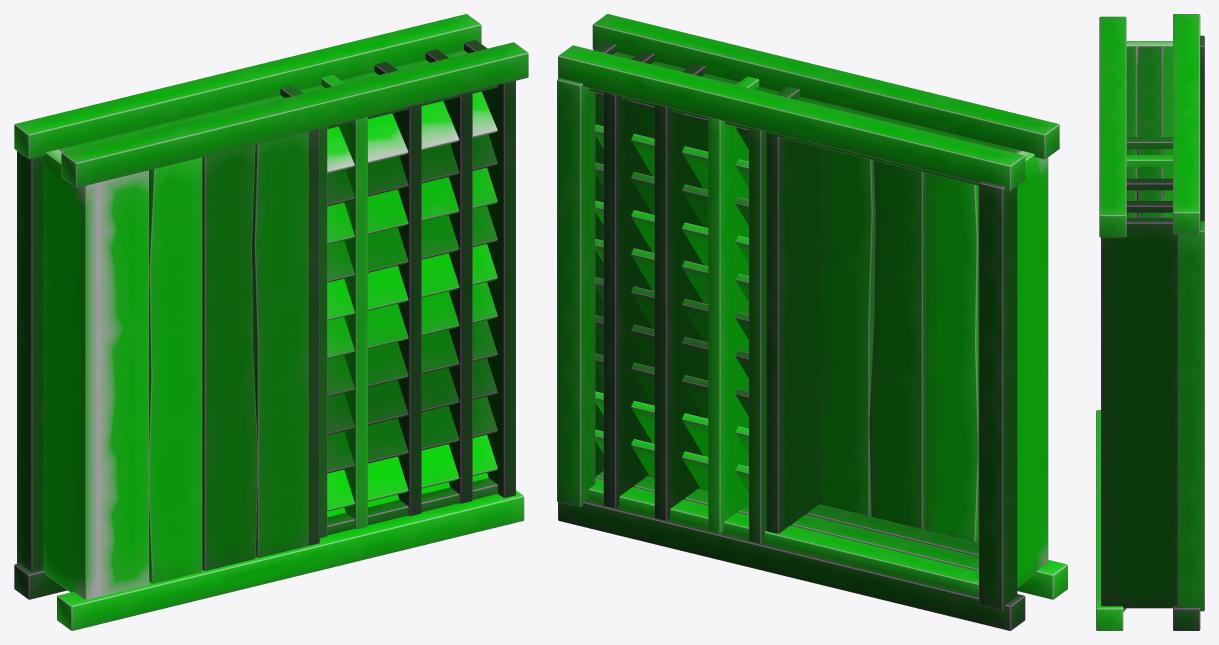
Rendered from window_400x300_10.fbx.
3 views of the same model, side by side, from view 1: azimuth 30°, elevation 25°; view 2: azimuth 150°, elevation 25°; view 3: azimuth 270°, elevation 25° (orthographic). The views are drawn at different scales.
Visible parts, largest first — view 1: window_400x300_10; view 2: window_400x300_10; view 3: window_400x300_10.
Boxes of the visible parts, x1,y1,x2,y2 form: window_400x300_10: [14, 14, 528, 630]; window_400x300_10: [557, 14, 1067, 630]; window_400x300_10: [1096, 14, 1204, 630].
Size of the model in its own units: 2.1 by 2.03 by 0.478.
